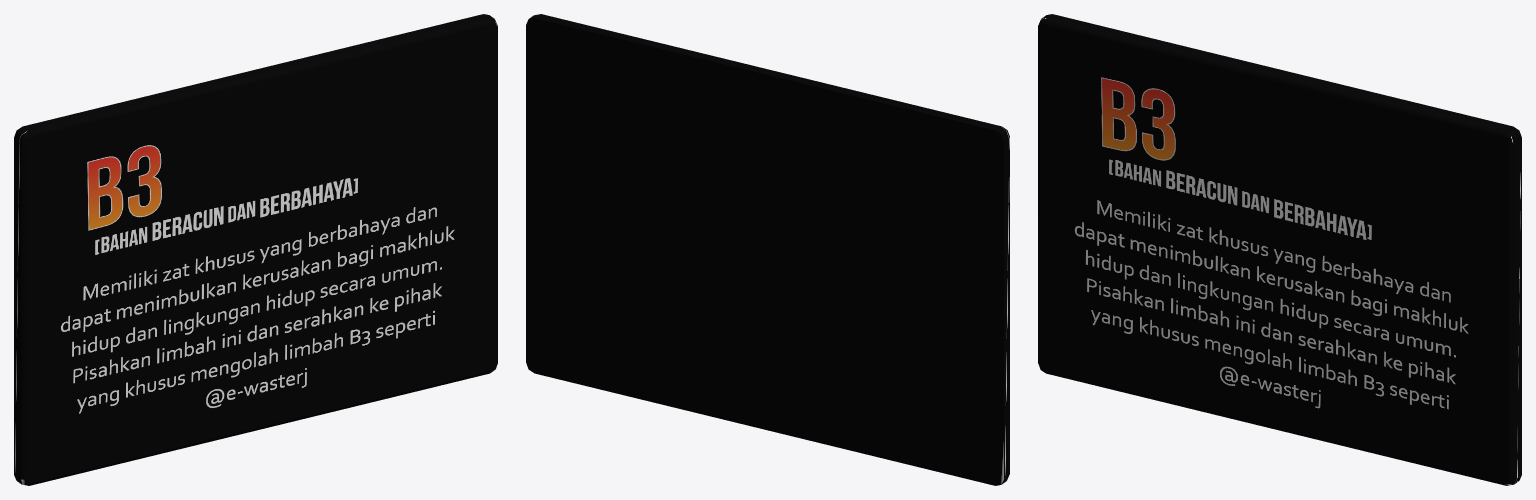
Rendered from penjelasanb3.fbx.
The picture shows the model from 3 angles, left to right: view 1: azimuth 30°, elevation 25°; view 2: azimuth 150°, elevation 25°; view 3: azimuth 330°, elevation 25°; orthographic projection.
Visible parts, largest first — view 1: pCube5; view 2: pCube5; view 3: pCube5.
Part boxes in pixels (box(x1,y1,x2,y2)): pCube5: box(14, 14, 497, 485); pCube5: box(526, 14, 1009, 485); pCube5: box(1038, 14, 1521, 485).
Bounding box in the file's own units: 5.47 × 3.89 × 0.159.
Materials: 1 (1 with a texture image).
